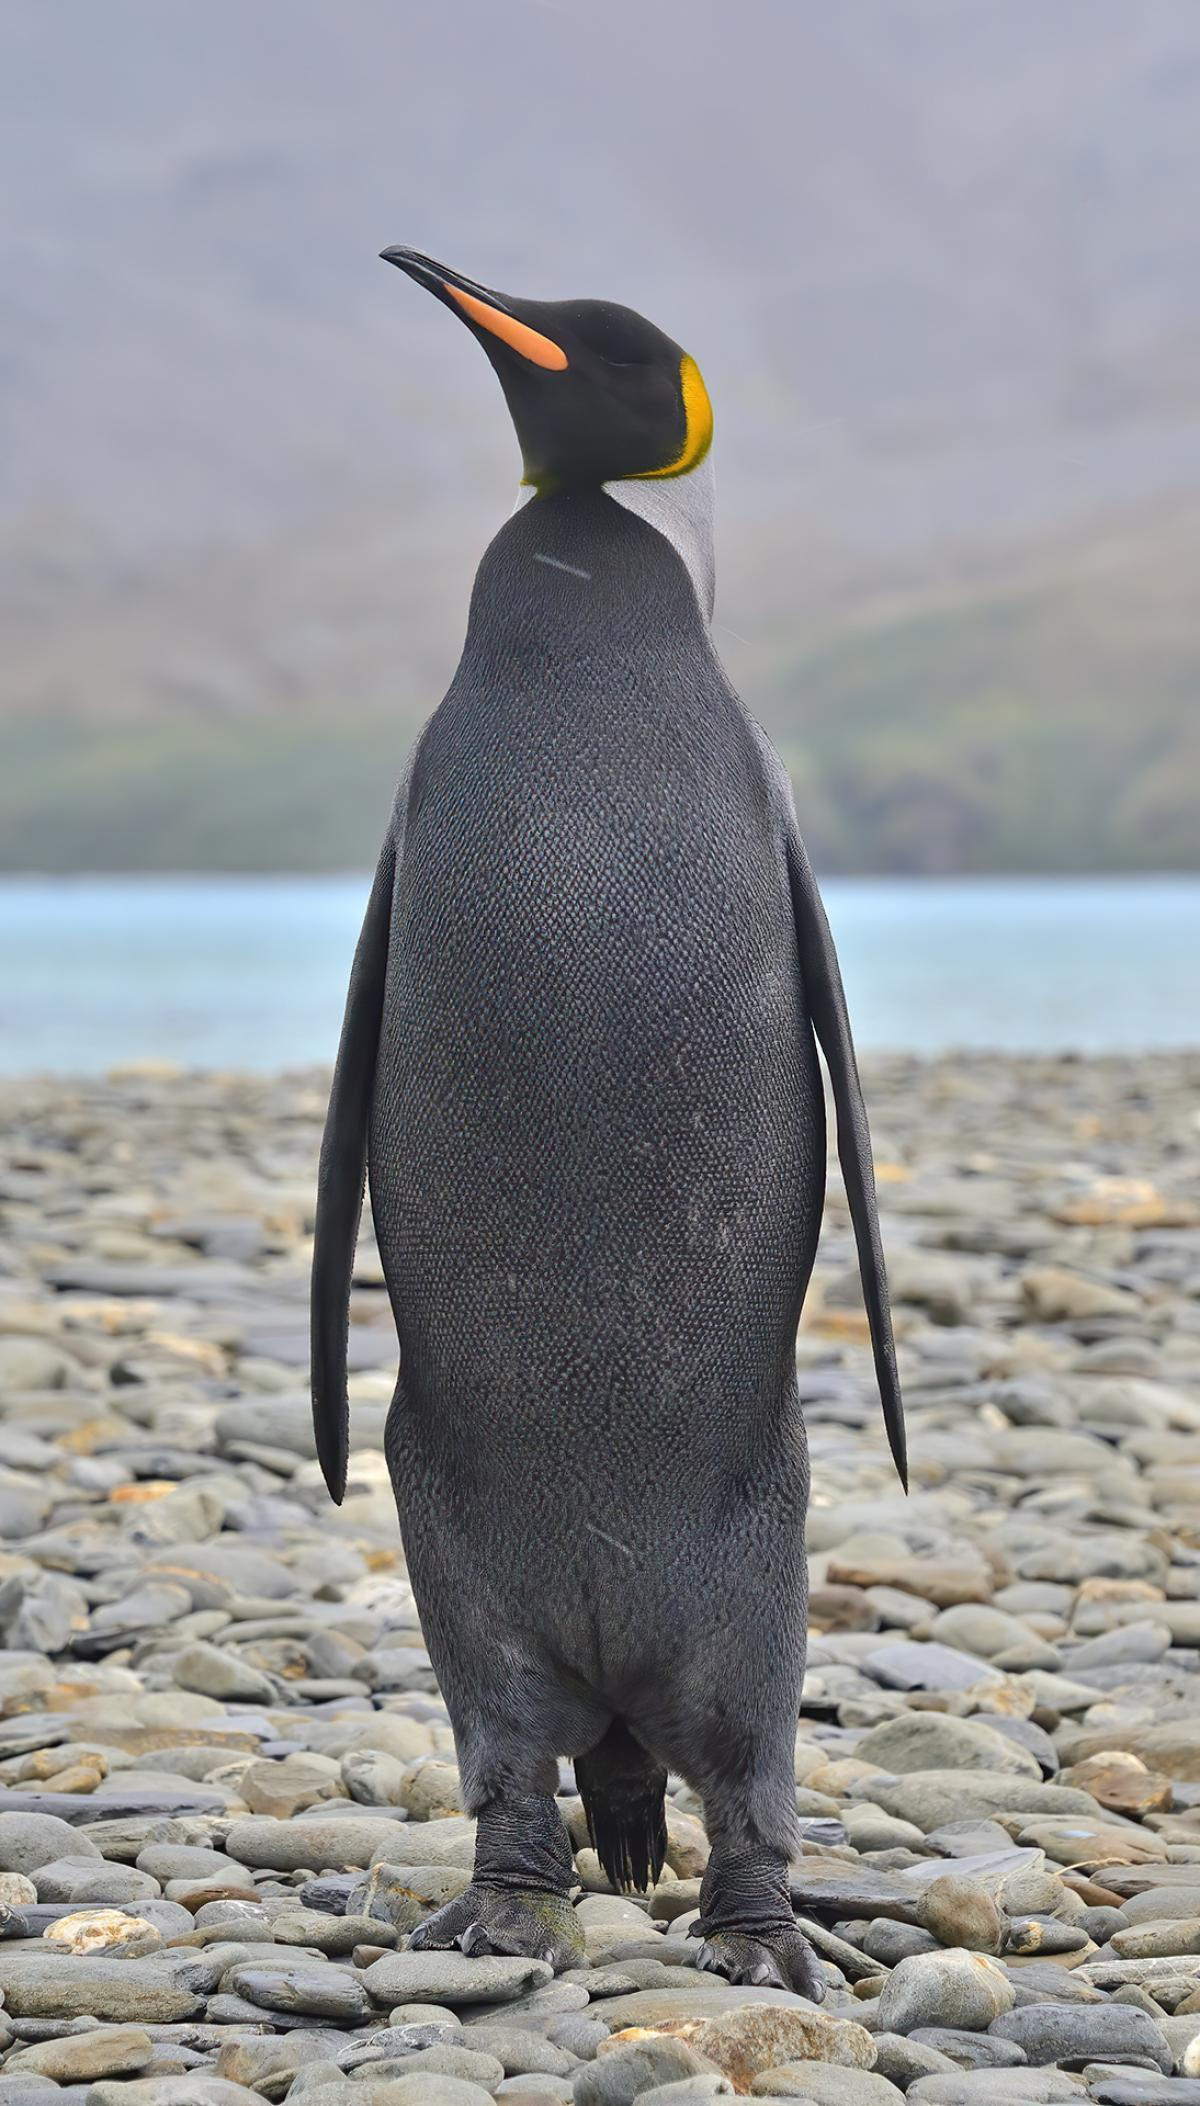king: (247, 179, 995, 2009)
